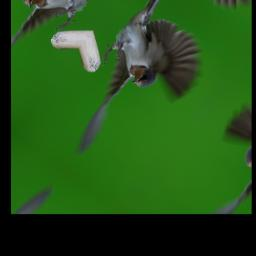Swallow: (42, 0, 231, 183)
